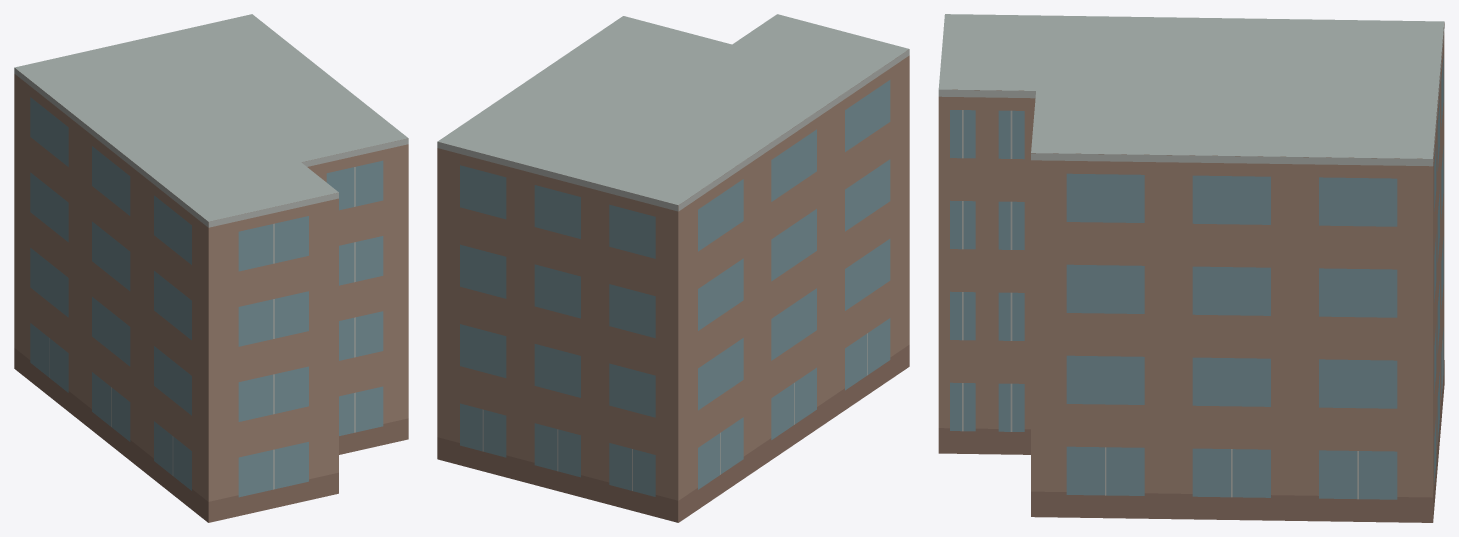
The model's file is residential-4ae5e949-f5c2-41ff-93d8-17e99f5985ee.glb.
The picture shows the model from 3 angles, left to right: view 1: azimuth 30°, elevation 25°; view 2: azimuth 150°, elevation 25°; view 3: azimuth 270°, elevation 25°; orthographic projection. The views are drawn at different scales.
Parts seen in each view (by area): view 1: residential-4ae5e949-f5c2-41ff-93d8-17e99f5985ee.tmp; view 2: residential-4ae5e949-f5c2-41ff-93d8-17e99f5985ee.tmp; view 3: residential-4ae5e949-f5c2-41ff-93d8-17e99f5985ee.tmp.
Part boxes in pixels (x1,y1,x2,y2): residential-4ae5e949-f5c2-41ff-93d8-17e99f5985ee.tmp: [14, 14, 408, 522]; residential-4ae5e949-f5c2-41ff-93d8-17e99f5985ee.tmp: [437, 14, 909, 522]; residential-4ae5e949-f5c2-41ff-93d8-17e99f5985ee.tmp: [938, 14, 1444, 522].
Size of the model in its own units: 10.43 by 12.2 by 15.37.
